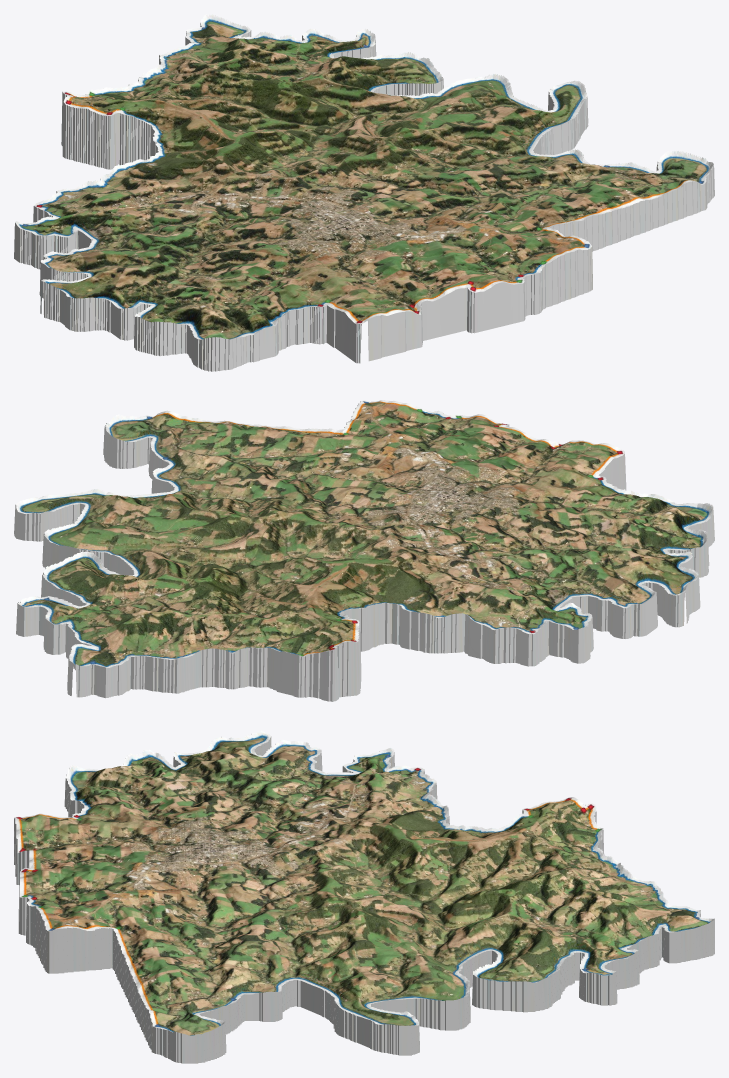
3 renders of one model, top to bottom at view 1: azimuth 30°, elevation 25°; view 2: azimuth 150°, elevation 25°; view 3: azimuth 270°, elevation 25°, orthographic. The views are drawn at different scales.
Size of the model in its own units: 0.9999 by 0.0865 by 0.9913.
Materials: 1 (1 with a texture image).
